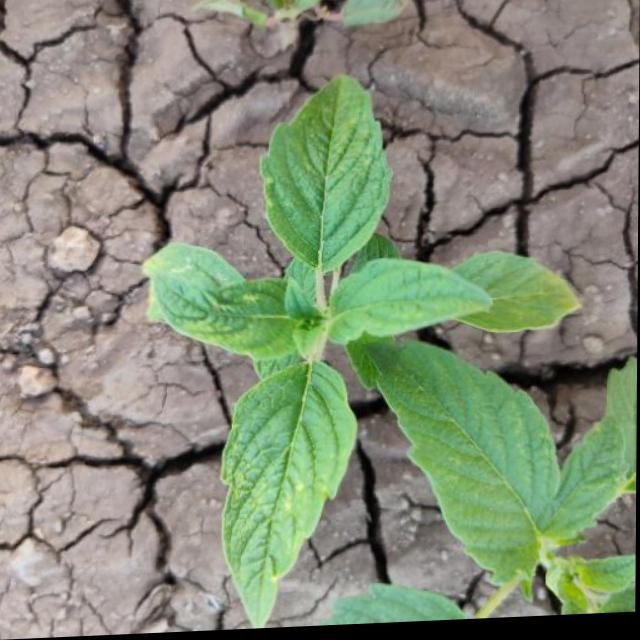crop: (90, 33, 617, 636)
